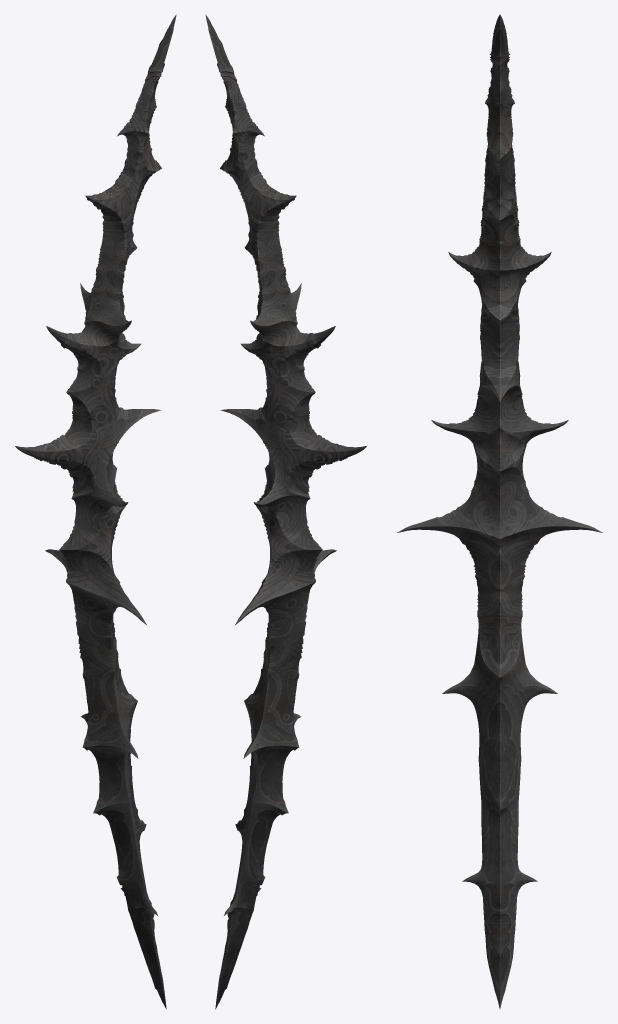
The model's file is bg_rad_kamen_pillar09_sm_hhk.obj.
3 renders of one model, left to right at view 1: azimuth 30°, elevation 25°; view 2: azimuth 150°, elevation 25°; view 3: azimuth 270°, elevation 25°, orthographic.
Visible parts, largest first — view 1: bg_rad_kamen_pillar09_sm_hhk_1, bg_rad_kamen_pillar09_sm_hhk_0; view 2: bg_rad_kamen_pillar09_sm_hhk_1, bg_rad_kamen_pillar09_sm_hhk_0; view 3: bg_rad_kamen_pillar09_sm_hhk_1, bg_rad_kamen_pillar09_sm_hhk_0.
Boxes of the visible parts, bbox=[...] form: bg_rad_kamen_pillar09_sm_hhk_1: bbox=[45, 14, 176, 1009]; bg_rad_kamen_pillar09_sm_hhk_0: bbox=[15, 284, 161, 624]; bg_rad_kamen_pillar09_sm_hhk_1: bbox=[205, 14, 336, 1009]; bg_rad_kamen_pillar09_sm_hhk_0: bbox=[220, 284, 366, 624]; bg_rad_kamen_pillar09_sm_hhk_1: bbox=[398, 14, 601, 1008]; bg_rad_kamen_pillar09_sm_hhk_0: bbox=[397, 252, 602, 538].
Bounding box in the file's own units: 1.64 × 9.6 × 1.8.
Materials: 2 (2 with a texture image).
